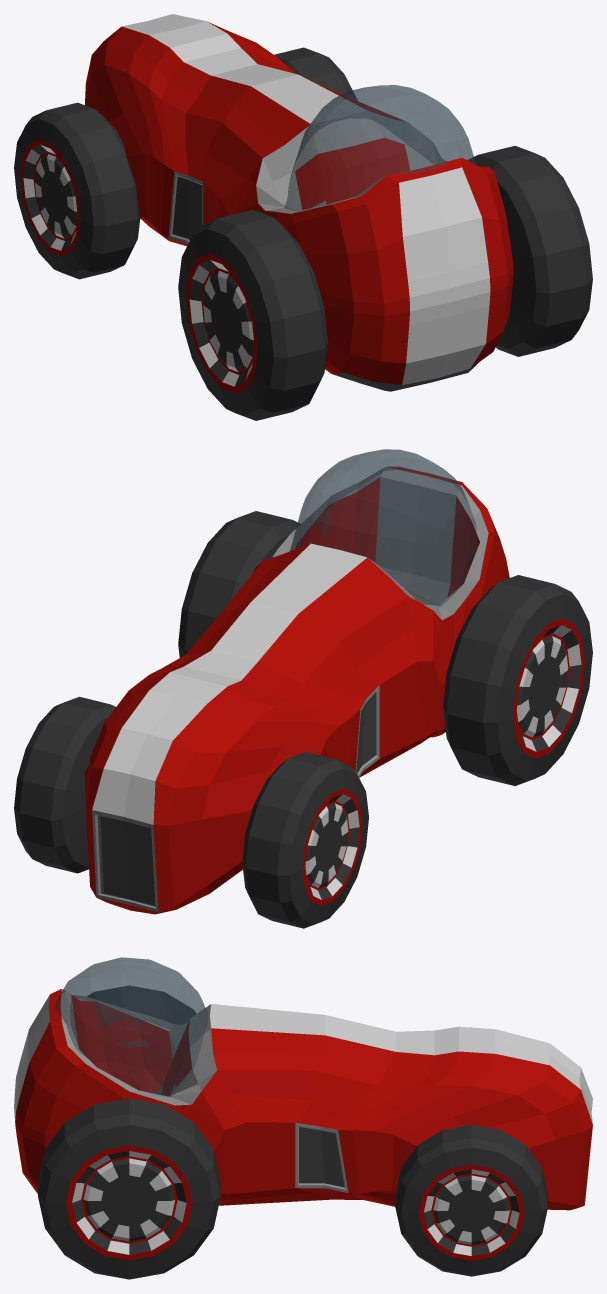
File: CarModel.fbx
3 renders of one model, top to bottom at view 1: azimuth 30°, elevation 25°; view 2: azimuth 150°, elevation 25°; view 3: azimuth 270°, elevation 25°, orthographic. The views are drawn at different scales.
Parts seen in each view (by area): view 1: Car, RearWheels, FrontWheel1, Sphere, FrontWheel2; view 2: Car, RearWheels, Sphere, FrontWheel1, FrontWheel2; view 3: Car, RearWheels, FrontWheel2, Sphere.
Boxes of the visible parts, bbox=[...] form: Car: bbox=[85, 14, 513, 391]; RearWheels: bbox=[178, 146, 592, 420]; FrontWheel1: bbox=[14, 102, 140, 279]; Sphere: bbox=[284, 85, 476, 210]; FrontWheel2: bbox=[274, 47, 357, 100]; Car: bbox=[84, 467, 509, 914]; RearWheels: bbox=[178, 511, 592, 785]; Sphere: bbox=[290, 449, 477, 606]; FrontWheel1: bbox=[242, 752, 368, 928]; FrontWheel2: bbox=[14, 696, 115, 873]; Car: bbox=[14, 989, 592, 1210]; RearWheels: bbox=[38, 985, 220, 1279]; FrontWheel2: bbox=[395, 1124, 547, 1276]; Sphere: bbox=[55, 957, 207, 1097].
Size of the model in its own units: 365 by 309 by 634.
